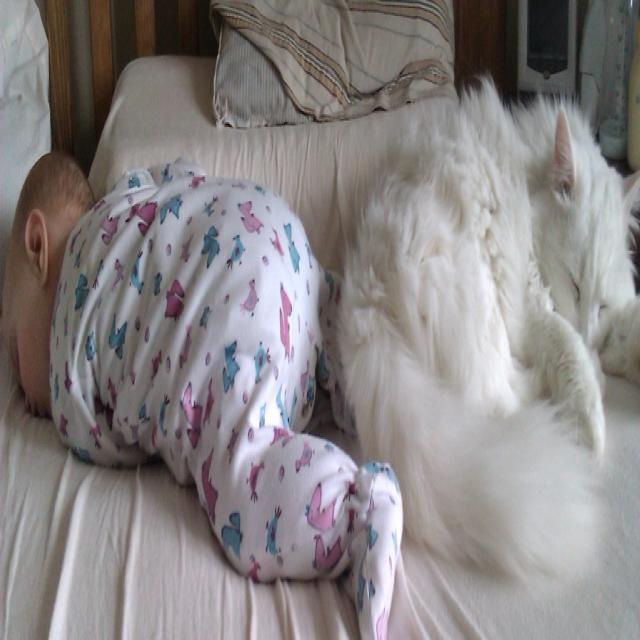Cat: (333, 72, 639, 586)
